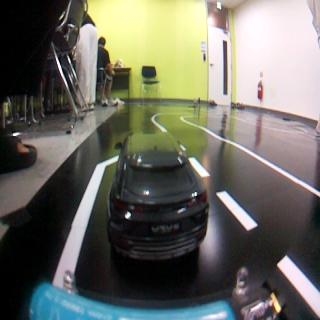car: (105, 127, 213, 260)
